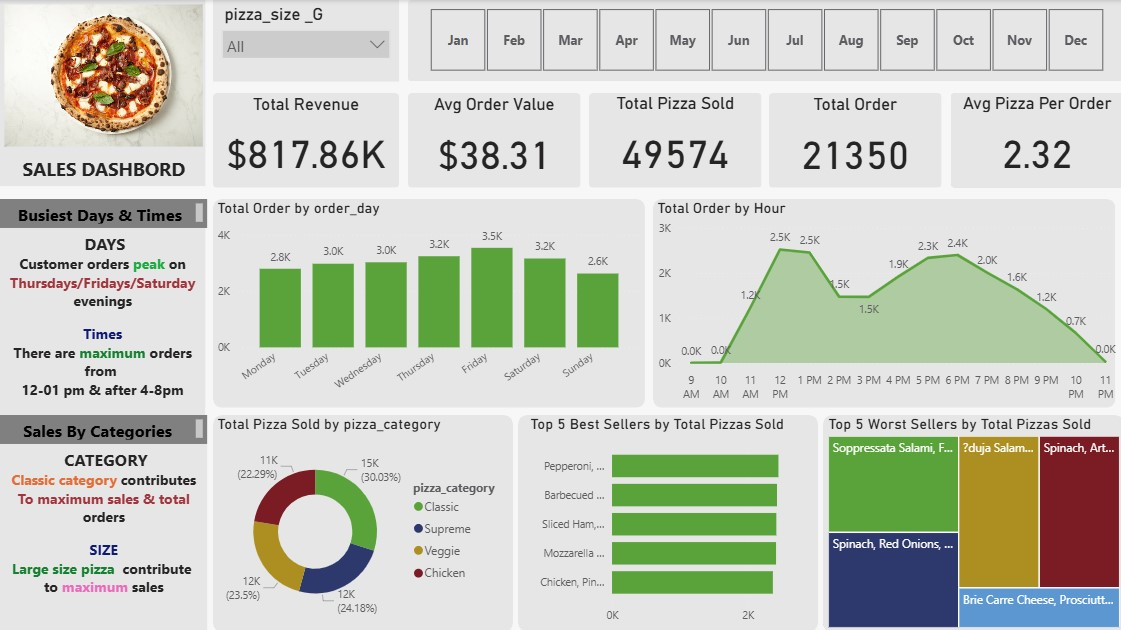

The dashboard page shown, as its layout file describes it:
{"tool":"powerbi","page":{"name":"Home ","canvas":[1280,720],"ordinal":0},"visuals":[{"type":"shape","box":[0,226.2,233.9,493.5],"z":0},{"type":"shape","box":[242.9,0,212,92.5],"z":1000},{"type":"shape","box":[465.2,0,814.8,92.5],"z":2000},{"type":"shape","box":[1083.4,105.4,196.6,108],"z":3000},{"type":"shape","box":[938.2,481.9,341.8,237.8],"z":4000},{"type":"shape","box":[938.2,482.2,341.8,237.8],"z":5000},{"type":"shape","box":[937.6,472.8,342.9,247.2],"z":6000},{"type":"shape","box":[589.9,472.9,341.8,246.7],"z":7000},{"type":"shape","box":[242.7,472.8,341.8,247.2],"z":8000},{"type":"shape","box":[242.9,226.2,492.2,237.8],"z":9000},{"type":"shape","box":[1083.4,105.4,196.6,108],"z":10000},{"type":"shape","box":[876.5,105.4,196.6,108],"z":11000},{"type":"shape","box":[670.8,105.4,196.6,108],"z":12000},{"type":"shape","box":[465.2,105.4,196.6,108],"z":13000},{"type":"shape","box":[242.9,105.4,212,108],"z":14000},{"type":"card","title":"Total Revenue","fields":{"Values":["All Measure.Total Revenue"]},"box":[242.9,106.7,212,105.4],"z":15000},{"type":"card","title":"Avg Pizza Per Order","fields":{"Values":["All Measure.Avg Pizza Per Order"]},"box":[1083.4,105.4,196.6,106.7],"z":16000},{"type":"card","title":"Total Pizza Sold","fields":{"Values":["All Measure.Total Pizza Sold"]},"box":[670.8,105.4,196.6,108],"z":17000},{"type":"card","title":"Total Order","fields":{"Values":["All Measure.Total Order"]},"box":[876.5,106.7,196.6,106.7],"z":18000},{"type":"card","title":"Avg Order Value","fields":{"Values":["All Measure.Avg Order Value"]},"box":[465.2,106.7,196.6,106.7],"z":19000},{"type":"slicer","fields":{"Values":["Calendar.Month"]},"box":[464.8,3.4,815.7,84.3],"z":20000},{"type":"columnChart","fields":{"Y":["All Measure.Total Order"],"Category":["pizza_sales.order_day"]},"box":[242.9,226.2,492.2,239],"z":21000},{"type":"donutChart","fields":{"Y":["All Measure.Total Pizza Sold"],"Category":["pizza_Category.pizza_category"]},"box":[242.9,472.9,341.8,246.7],"z":22000},{"type":"barChart","title":"Top 5 Best Sellers by Total Pizzas Sold","fields":{"Category":["pizza_sales.pizza_ingredients"],"Y":["All Measure.Total Pizza Sold","select"]},"box":[598.9,472.9,341.8,246.7],"z":23000},{"type":"treemap","title":"Top 5 Worst Sellers by Total Pizzas Sold","fields":{"Group":["pizza_sales.pizza_ingredients"],"Values":["All Measure.Total Pizza Sold","select"]},"box":[938.7,472.8,341.8,247.2],"z":24000},{"type":"shape","box":[744.1,226.2,526.9,237.8],"z":25000},{"type":"areaChart","fields":{"Category":["pizza_sales.Hour"],"Y":["All Measure.Total Order"]},"box":[744.1,226.2,535.9,237.8],"z":26000},{"type":"slicer","fields":{"Values":["pizza_sales.pizza_size _G"]},"box":[242.9,0,212,92.5],"z":27000},{"type":"textbox","box":[0,226.2,236.5,33.4],"z":28000},{"type":"textbox","box":[0,472.9,236.5,33.4],"z":29000},{"type":"textbox","box":[0,259.6,233.9,204.3],"z":30000},{"type":"textbox","box":[0,0,233.9,212],"z":31000},{"type":"textbox","box":[0,172.2,236.5,39.8],"z":32000},{"type":"textbox","box":[0,506.3,236.5,213.3],"z":33000},{"type":"image","box":[0,0,236.5,172.2],"z":34000}]}

Visuals, with their boxes in screenshot pixels (x1, y1, x2, y2), scaled from the page's 1280x720 canvas onto the 1121x630 screenshot:
shape: select_region(0, 198, 205, 629)
shape: select_region(213, 0, 398, 81)
shape: select_region(407, 0, 1120, 81)
shape: select_region(949, 92, 1120, 187)
shape: select_region(822, 422, 1120, 629)
shape: select_region(822, 422, 1120, 629)
shape: select_region(821, 414, 1120, 629)
shape: select_region(517, 414, 816, 629)
shape: select_region(213, 414, 512, 629)
shape: select_region(213, 198, 644, 406)
shape: select_region(949, 92, 1120, 187)
shape: select_region(768, 92, 940, 187)
shape: select_region(587, 92, 760, 187)
shape: select_region(407, 92, 580, 187)
shape: select_region(213, 92, 398, 187)
"Total Revenue" card: select_region(213, 93, 398, 186)
"Avg Pizza Per Order" card: select_region(949, 92, 1120, 186)
"Total Pizza Sold" card: select_region(587, 92, 760, 187)
"Total Order" card: select_region(768, 93, 940, 187)
"Avg Order Value" card: select_region(407, 93, 580, 187)
slicer - Calendar.Month: select_region(407, 3, 1120, 77)
columnChart - All Measure.Total Order x pizza_sales.order_day: select_region(213, 198, 644, 407)
donutChart - All Measure.Total Pizza Sold x pizza_Category.pizza_category: select_region(213, 414, 512, 629)
"Top 5 Best Sellers by Total Pizzas Sold" barChart: select_region(525, 414, 824, 629)
"Top 5 Worst Sellers by Total Pizzas Sold" treemap: select_region(822, 414, 1120, 629)
shape: select_region(652, 198, 1113, 406)
areaChart - pizza_sales.Hour x All Measure.Total Order: select_region(652, 198, 1120, 406)
slicer - pizza_sales.pizza_size _G: select_region(213, 0, 398, 81)
textbox: select_region(0, 198, 207, 227)
textbox: select_region(0, 414, 207, 443)
textbox: select_region(0, 227, 205, 406)
textbox: select_region(0, 0, 205, 186)
textbox: select_region(0, 151, 207, 186)
textbox: select_region(0, 443, 207, 629)
image: select_region(0, 0, 207, 151)
